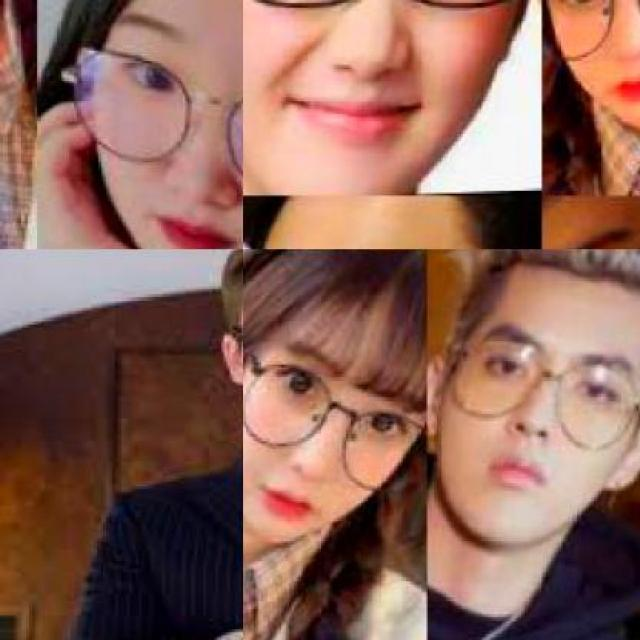mask: (49, 46, 244, 186), (426, 320, 636, 450), (243, 361, 421, 496), (541, 0, 637, 65)
